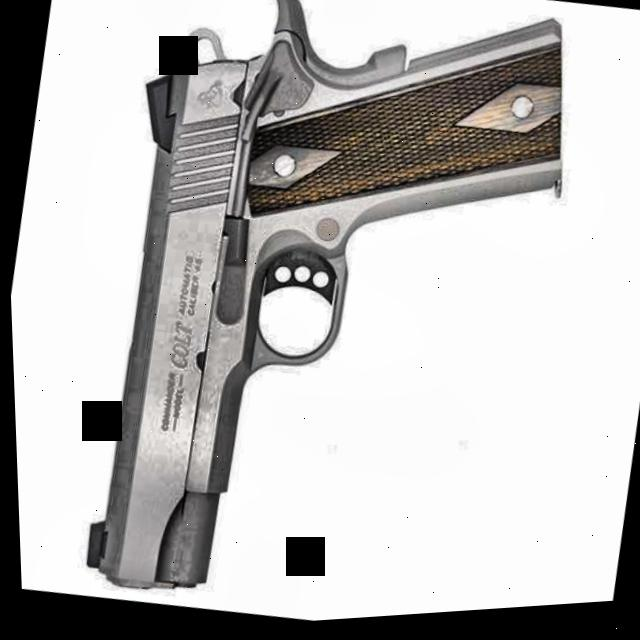Colt m1911: (50, 0, 602, 637)
